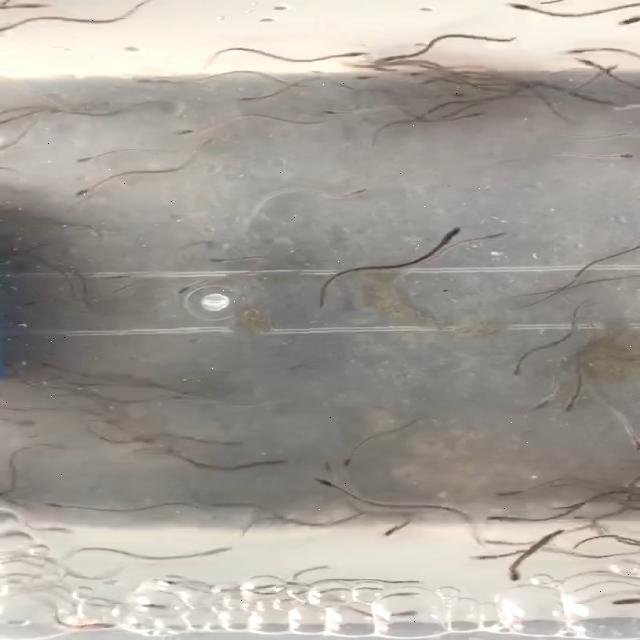active_glass_eel: (58, 146, 109, 170), (336, 447, 382, 470), (336, 70, 389, 88), (550, 390, 599, 409), (208, 246, 254, 266), (263, 40, 305, 60), (510, 478, 542, 503), (445, 102, 492, 119), (334, 180, 370, 202), (58, 182, 95, 202), (567, 56, 619, 70), (556, 44, 601, 60), (102, 425, 152, 439), (483, 566, 521, 584), (335, 45, 373, 62), (434, 222, 480, 236), (44, 500, 90, 514), (227, 92, 270, 106), (598, 13, 640, 27), (512, 358, 534, 383), (326, 102, 362, 117), (46, 292, 84, 306), (483, 511, 518, 526), (168, 123, 196, 141), (143, 74, 178, 88), (498, 0, 528, 16), (94, 268, 124, 284), (177, 281, 208, 296), (384, 51, 414, 66), (58, 364, 92, 377), (244, 365, 270, 382), (376, 525, 412, 537), (264, 458, 294, 472), (617, 436, 640, 454), (492, 70, 520, 84), (608, 150, 640, 162), (206, 401, 238, 413), (311, 475, 341, 483)
